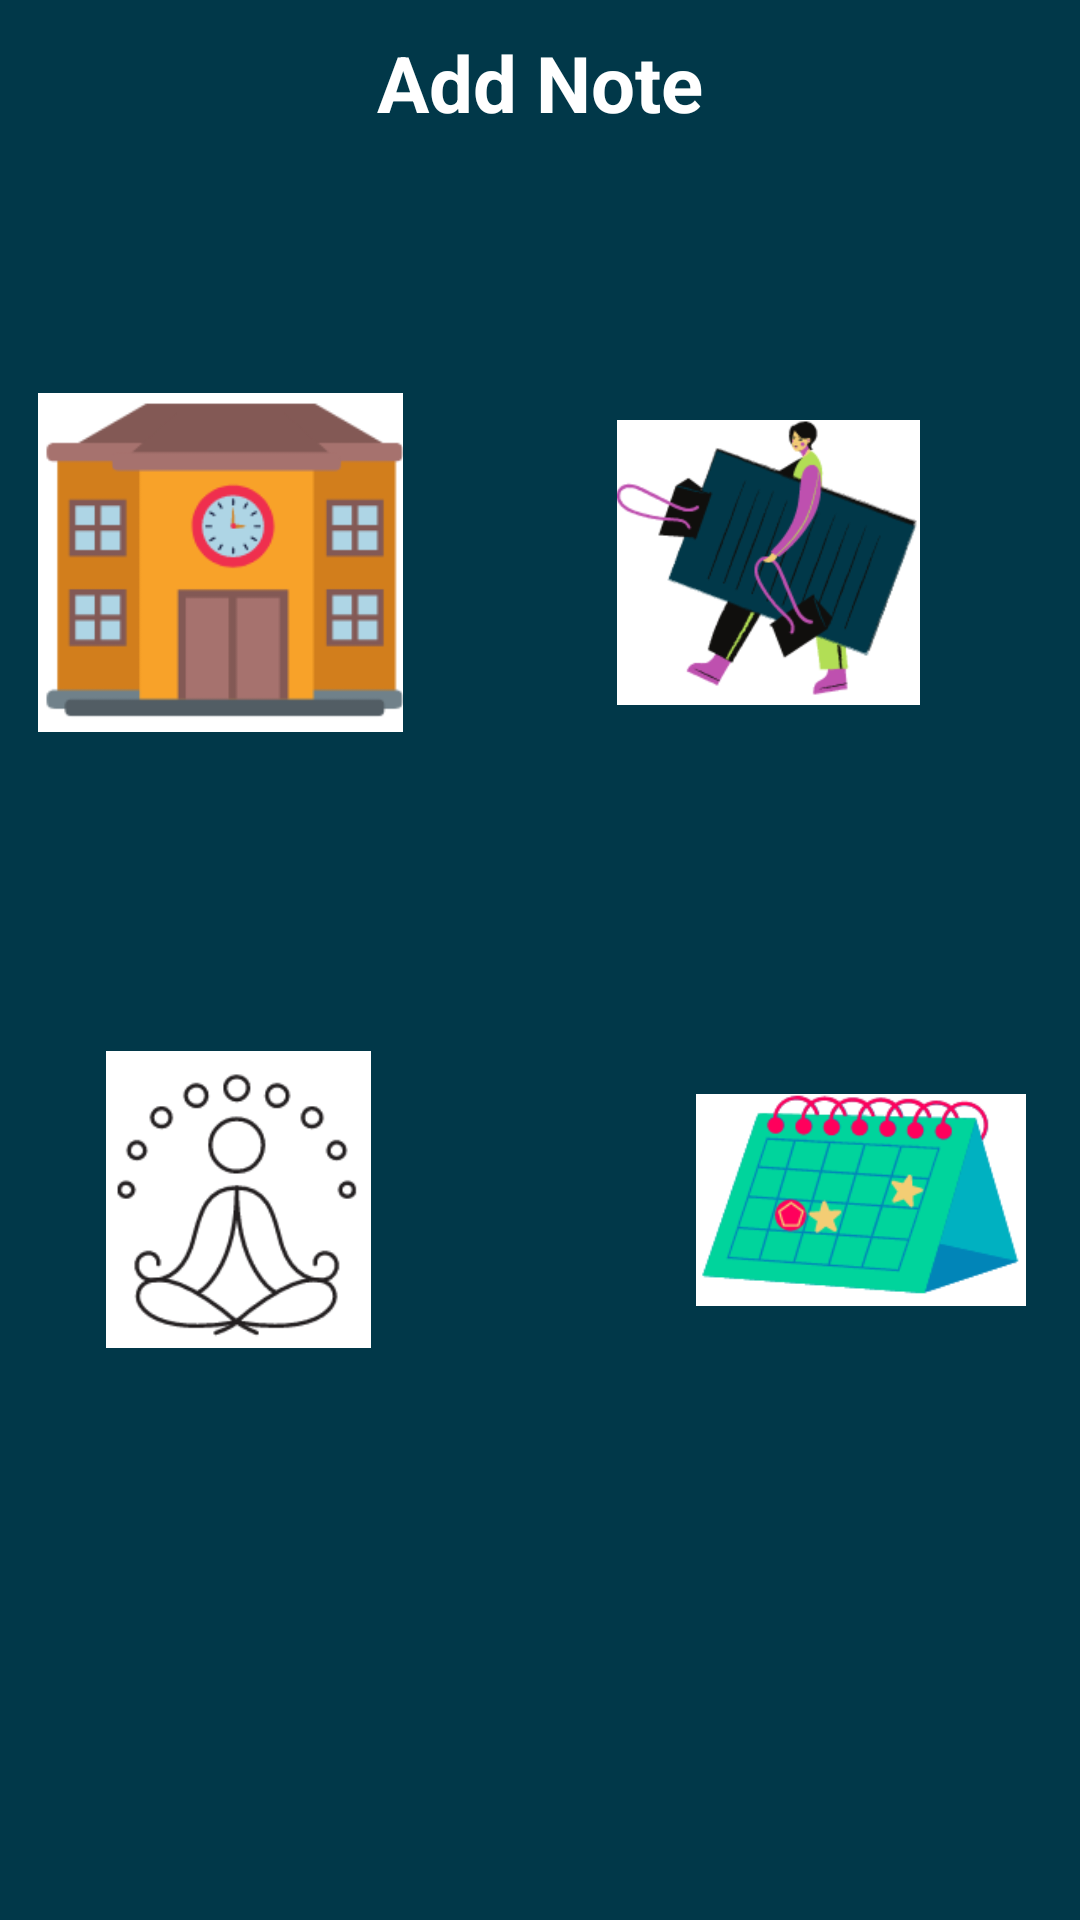

Icon bounding boxes for this 1080x1920 phone screenshot, format [x1=x1, y1=y1, x2=x2, y2=y2]:
events: [x1=696, y1=1094, x2=1026, y2=1306]
personal: [x1=106, y1=1051, x2=371, y2=1348]
